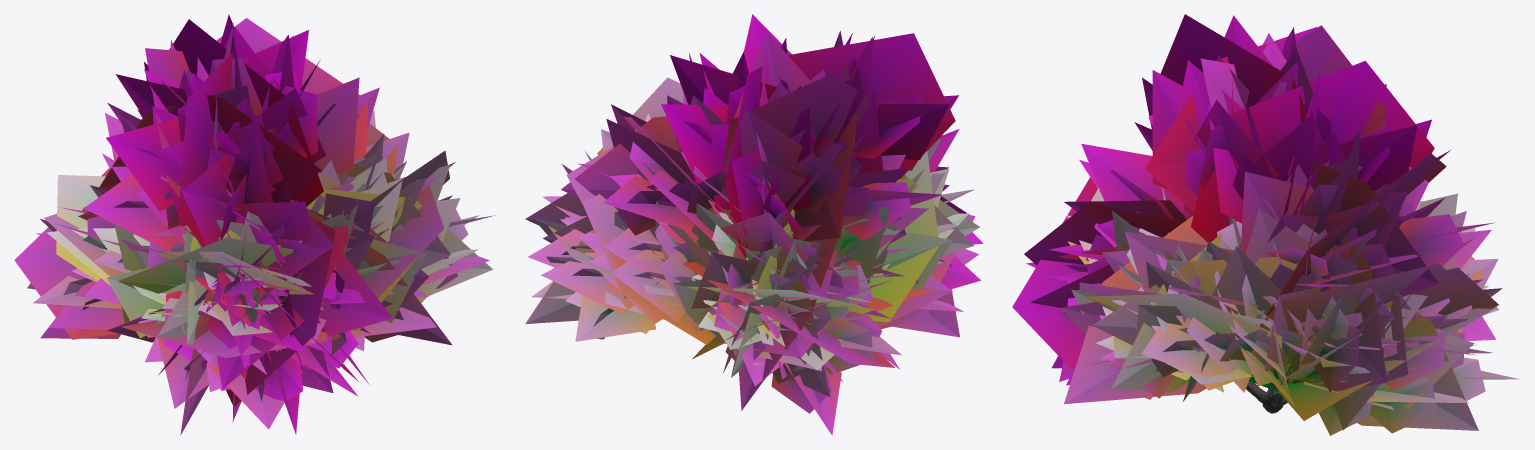
The model's file is filber_tree_6.FBX.
The picture shows the model from 3 angles, left to right: view 1: azimuth 30°, elevation 25°; view 2: azimuth 150°, elevation 25°; view 3: azimuth 270°, elevation 25°; orthographic projection. The views are drawn at different scales.
Parts seen in each view (by area): view 1: filbert_leaves_lod_0, filbert_leaves_shadow; view 2: filbert_leaves_lod_0, filbert_leaves_shadow; view 3: filbert_leaves_lod_0, filbert_leaves_shadow, filbert_trunk.
Part boxes in pixels (x1,y1,x2,y2): filbert_leaves_lod_0: [33, 14, 495, 434]; filbert_leaves_shadow: [14, 18, 492, 435]; filbert_leaves_lod_0: [528, 14, 980, 435]; filbert_leaves_shadow: [525, 30, 983, 410]; filbert_leaves_lod_0: [1026, 15, 1519, 435]; filbert_leaves_shadow: [1012, 14, 1498, 430]; filbert_trunk: [1246, 370, 1291, 413].
Size of what is drawn, in the model's own units: 7.82 by 6.66 by 8.52.
